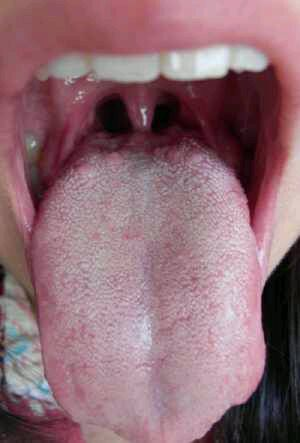baitaishe: (29, 127, 266, 443)
